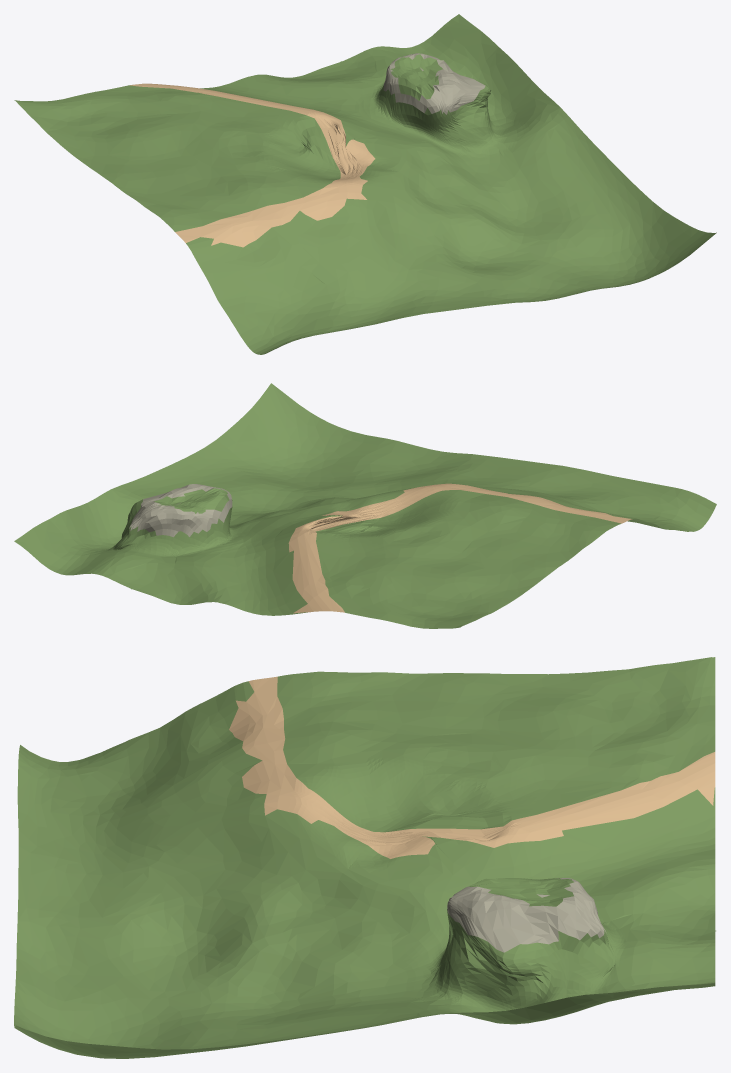
3 views of the same model, one above another, from view 1: azimuth 30°, elevation 25°; view 2: azimuth 150°, elevation 25°; view 3: azimuth 270°, elevation 25° (orthographic). The views are drawn at different scales.
Visible parts, largest first — view 1: Plane.005; view 2: Plane.005; view 3: Plane.005.
Part boxes in pixels (bbox=[...]): Plane.005: bbox=[14, 14, 716, 354]; Plane.005: bbox=[14, 383, 716, 628]; Plane.005: bbox=[14, 657, 715, 1058].
Size of the model in its own units: 504 by 110 by 503.
